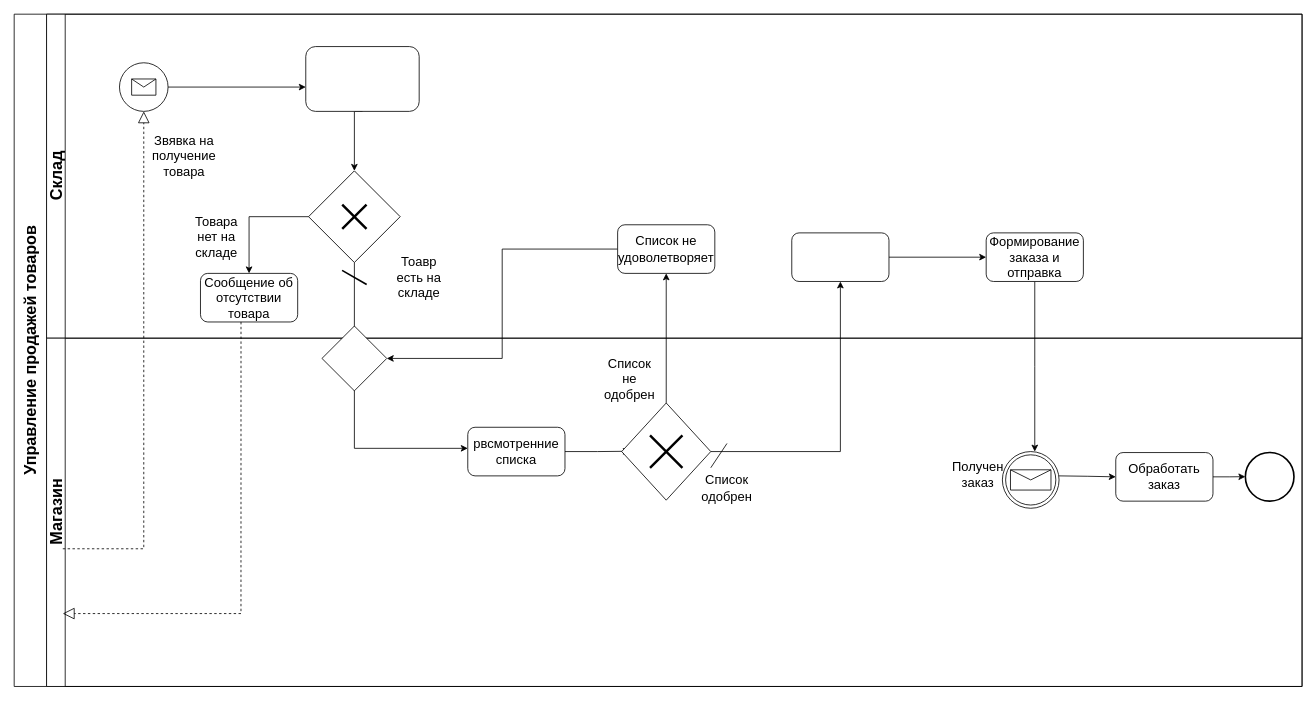
This 1316x701 diagram has some shape labels left out. Here are the shapes that lost their labels. From the top down, the centre of each, then its label:
At (x=362, y=78): "Проверить товары на складе и сформировать список".
At (x=840, y=256): "Список согласован".
